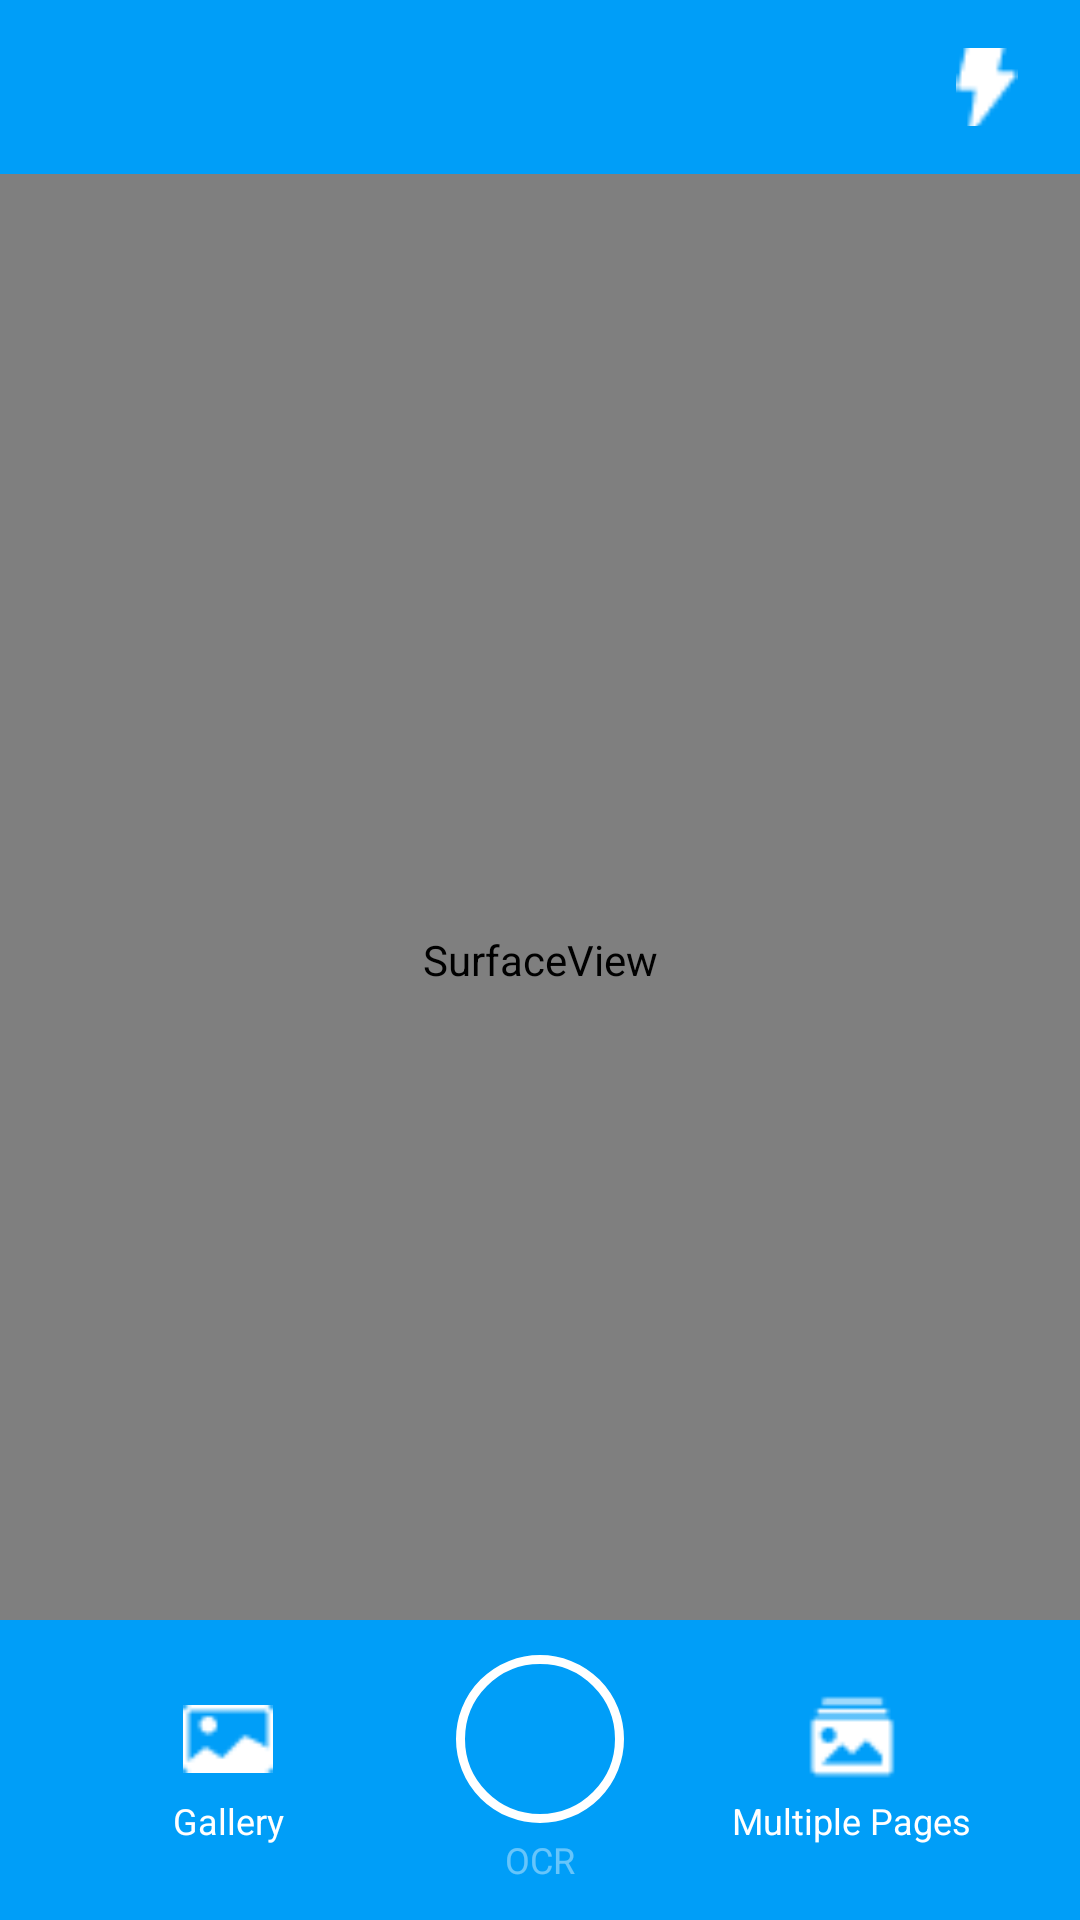

Icon click points for this 1080px×1920px phone screenshot, format point (x, y):
flash: point (987, 87)
